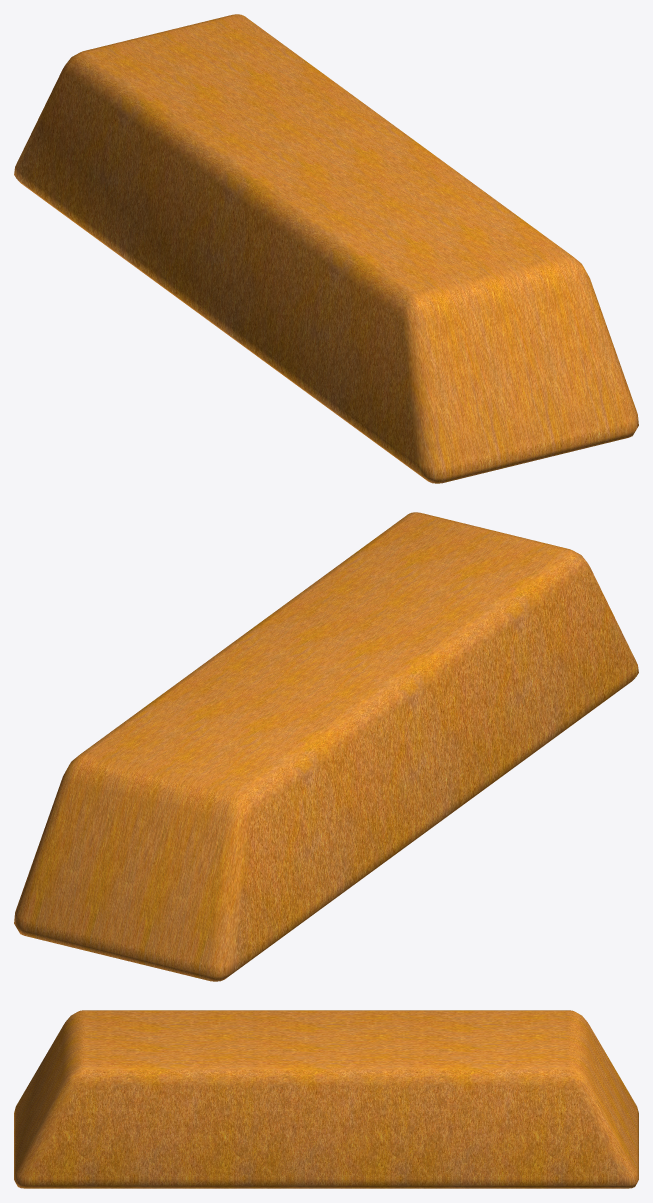
File: Bronze_Ingot.FBX
The picture shows the model from 3 angles, top to bottom: view 1: azimuth 30°, elevation 25°; view 2: azimuth 150°, elevation 25°; view 3: azimuth 270°, elevation 25°; orthographic projection. The views are drawn at different scales.
Visible parts, largest first — view 1: Bronze; view 2: Bronze; view 3: Bronze.
Boxes of the visible parts, box(x1,y1,x2,y2) form: Bronze: box(14, 14, 638, 483); Bronze: box(14, 512, 638, 981); Bronze: box(14, 1010, 638, 1188).
Size of the model in its own units: 5.85 by 4 by 19.62.
Materials: 1 (1 with a texture image).
